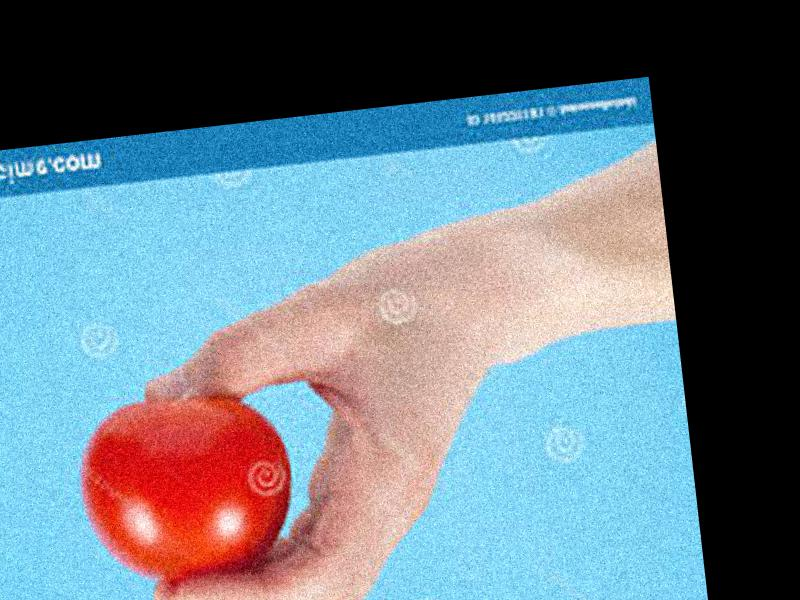Tomato: (73, 387, 299, 594)
